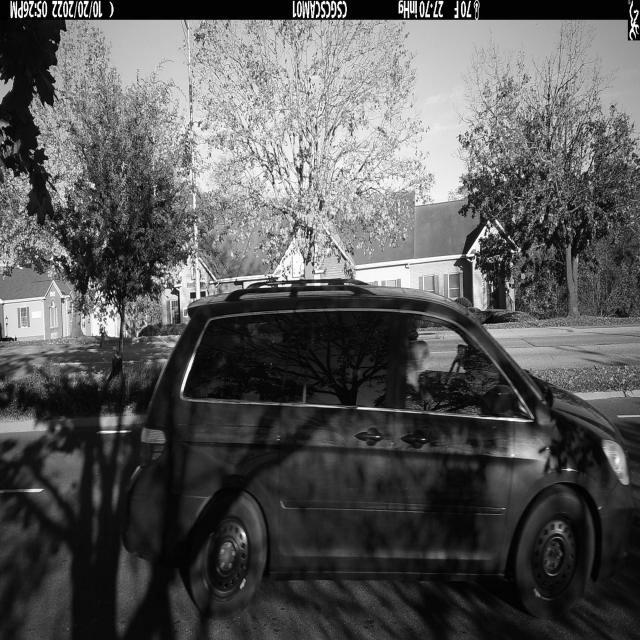Van: (124, 280, 636, 620)
